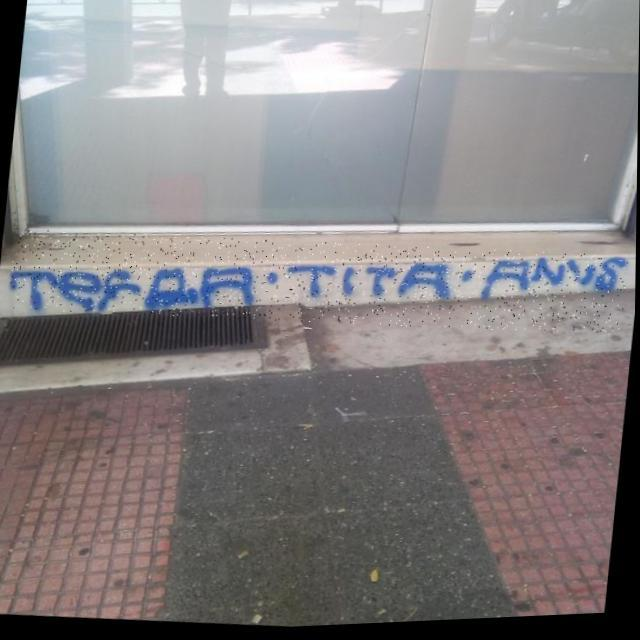-: (6, 208, 630, 362)
